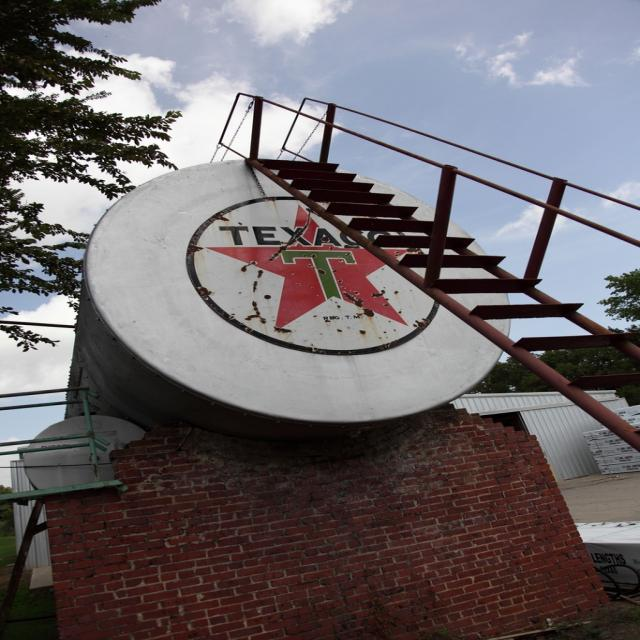texaco: (191, 200, 439, 352)
